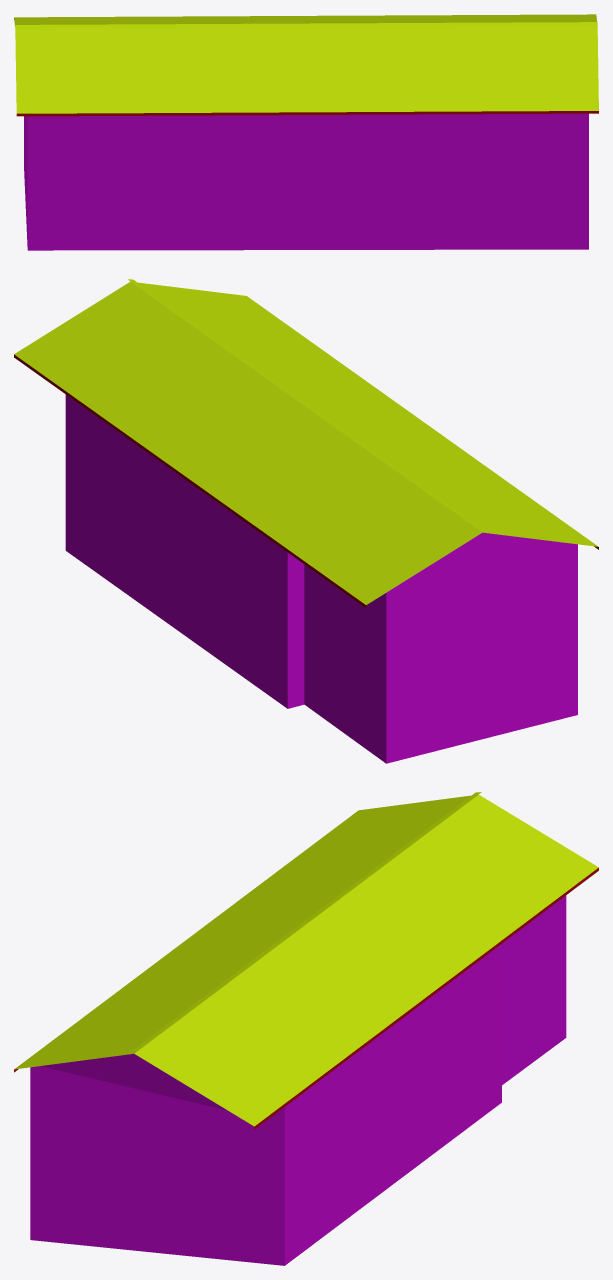
3 views of the same model, one above another, from view 1: azimuth 30°, elevation 25°; view 2: azimuth 150°, elevation 25°; view 3: azimuth 270°, elevation 25° (orthographic). The views are drawn at different scales.
Parts seen in each view (by area): view 1: sc_101; view 2: sc_101; view 3: sc_101.
Part boxes in pixels (box(x1,y1,x2,y2)): sc_101: box(14, 14, 598, 250); sc_101: box(14, 279, 598, 763); sc_101: box(14, 792, 598, 1265).
Bounding box in the file's own units: 25.13 × 8.15 × 19.65.
